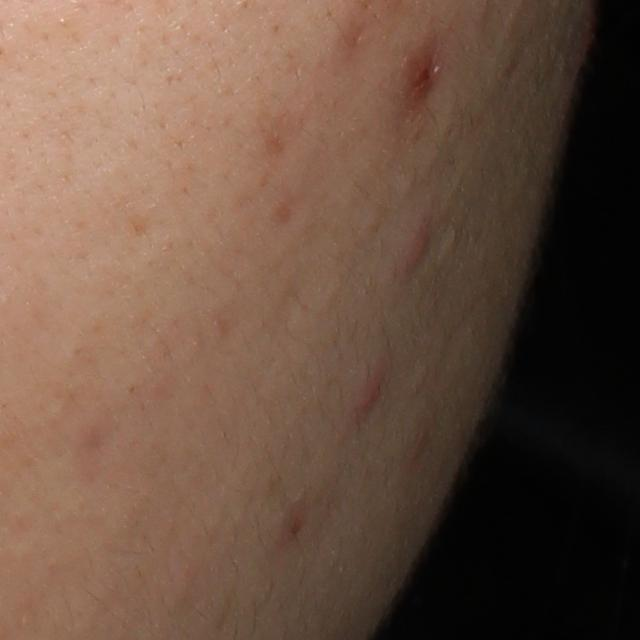papule: (396, 224, 432, 278), (350, 375, 386, 418)
